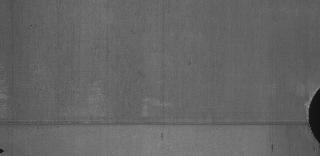punching hole: (0, 147, 6, 155)
welding line: (0, 120, 314, 132)
